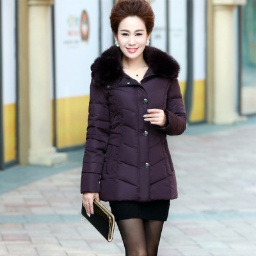face: (104, 1, 172, 67)
